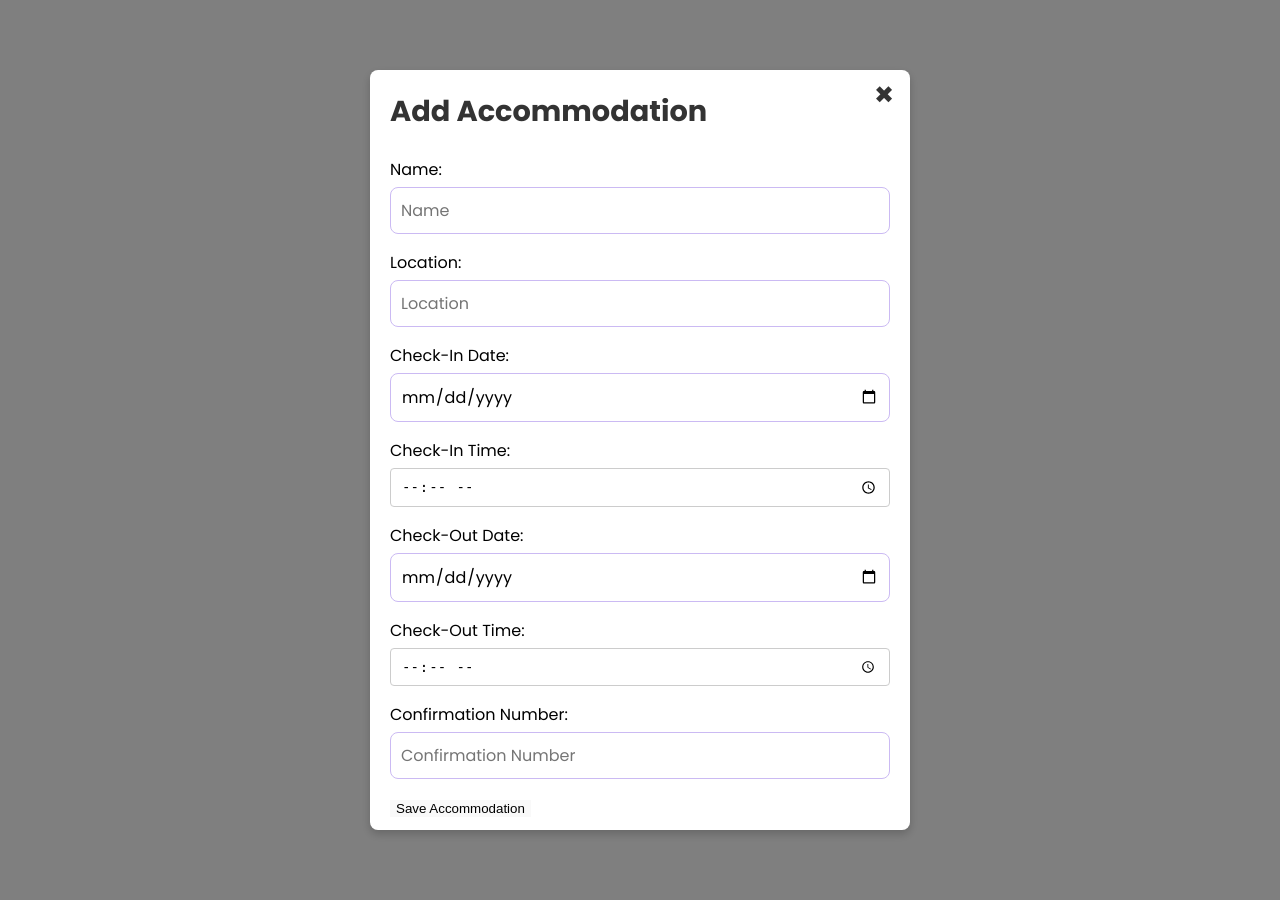
AddAccommodation Component › shows error message when fields are empty and Save is clicked
This screenshot has width=1280, height=900.
Click the button "Save Accommodation".
click(460, 809)  # box [390, 800, 531, 817]
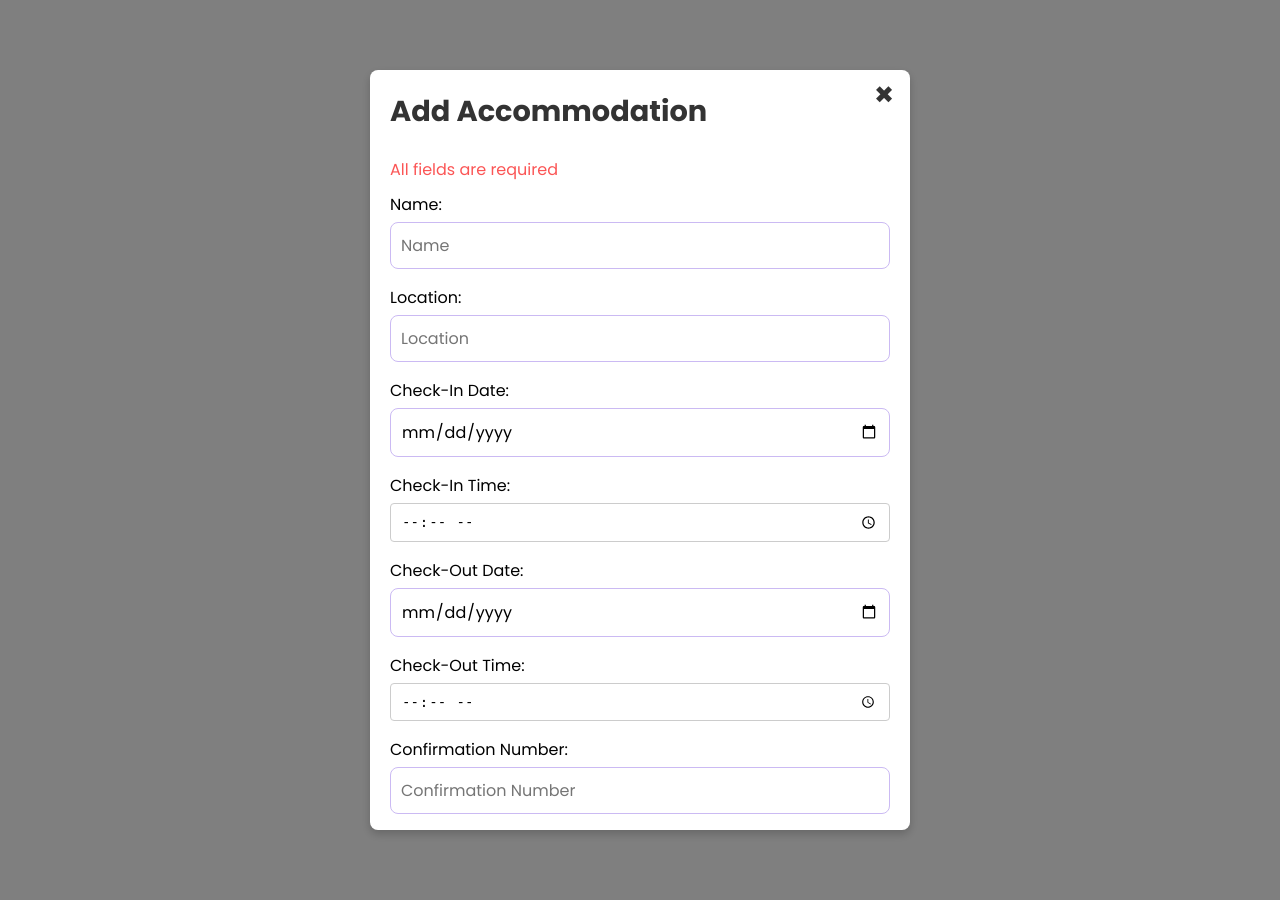
Result: the text "All fields are required" is shown at [390, 158, 558, 181]
